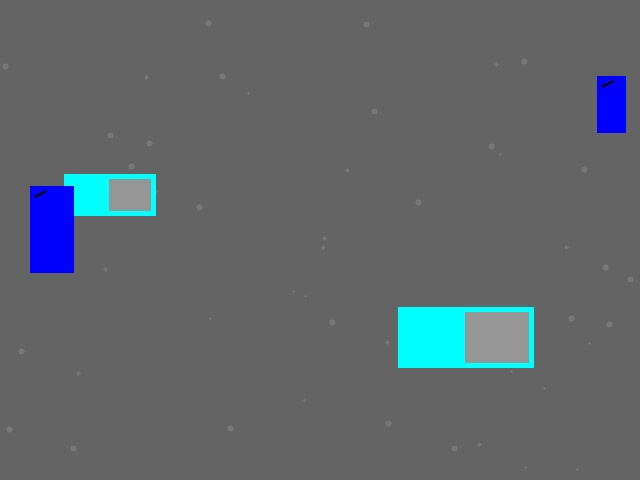motorcycle: (30, 186, 73, 272), (597, 76, 625, 132)
truck: (398, 307, 533, 367), (64, 174, 155, 215)
